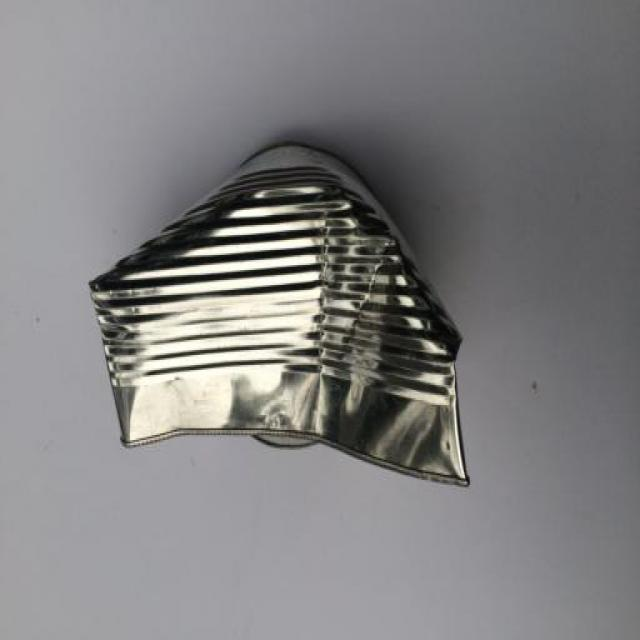metel: (82, 129, 505, 535)
